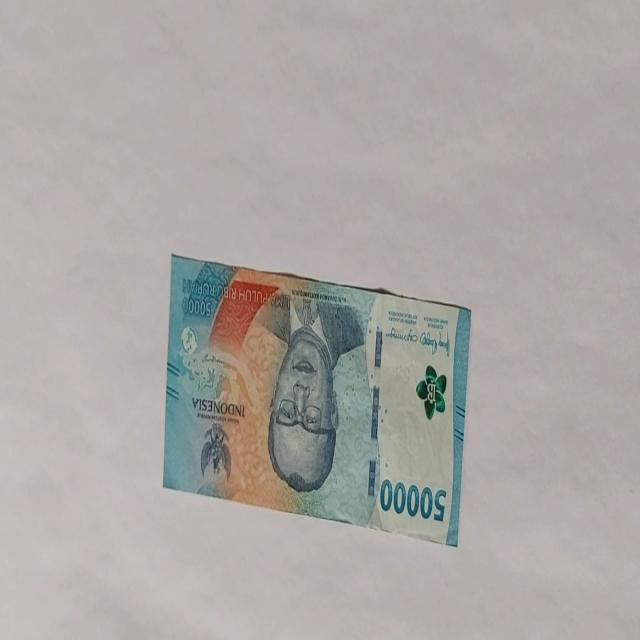lima puluh ribu rupiah: (162, 252, 472, 546)
